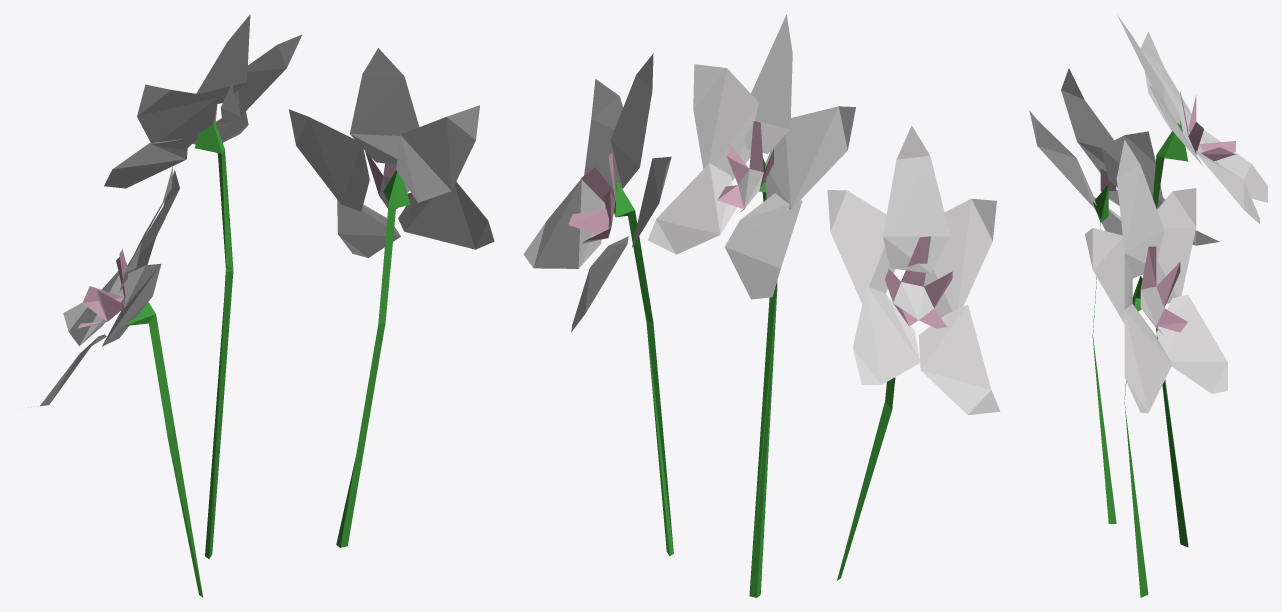
File: obj_orchid_0.obj
3 renders of one model, left to right at view 1: azimuth 30°, elevation 25°; view 2: azimuth 150°, elevation 25°; view 3: azimuth 270°, elevation 25°, orthographic. The views are drawn at different scales.
Size of the model in its own units: 0.5156 by 0.5781 by 0.2344.
